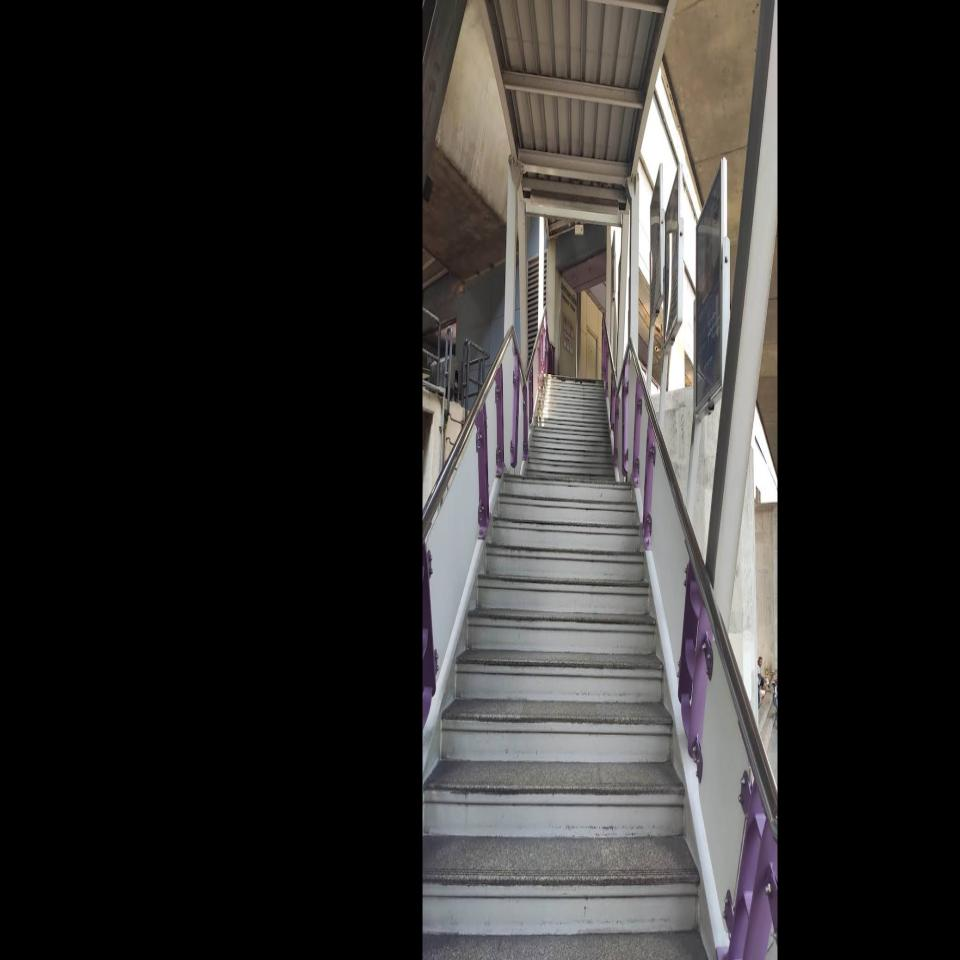signage: (561, 281, 578, 313)
